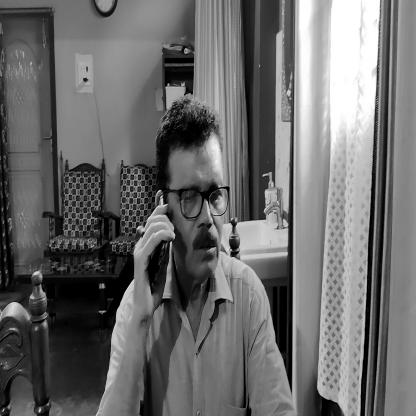Distracted: (152, 95, 230, 300)
